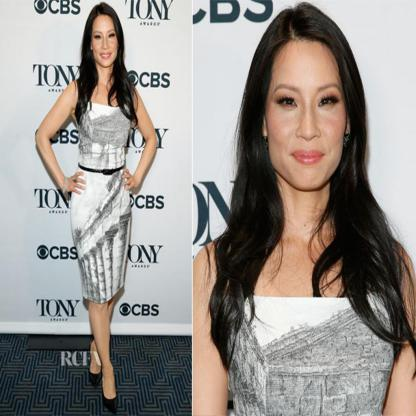face: (266, 33, 347, 195), (90, 13, 119, 70)
